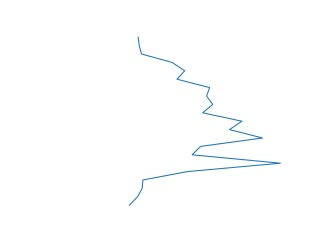floodSwamp: (125, 35, 283, 208)
